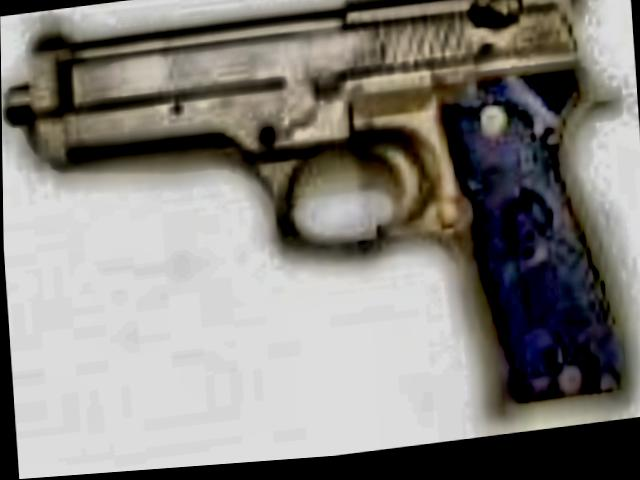pistol: (0, 0, 633, 480)
